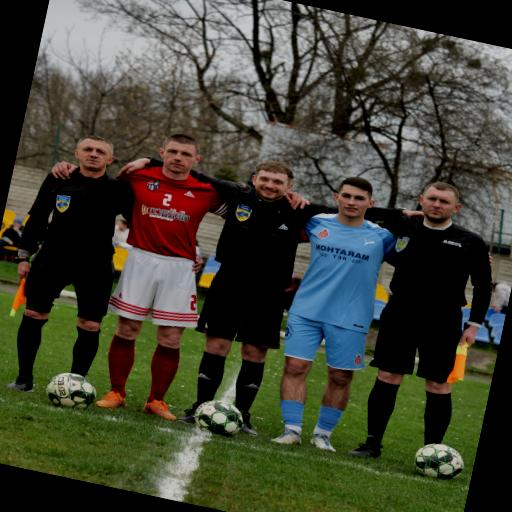shoe: (142, 399, 175, 420), (346, 442, 380, 458), (95, 391, 125, 409), (176, 402, 199, 424), (271, 428, 300, 444), (310, 434, 335, 452), (239, 410, 256, 435), (6, 376, 32, 391)
